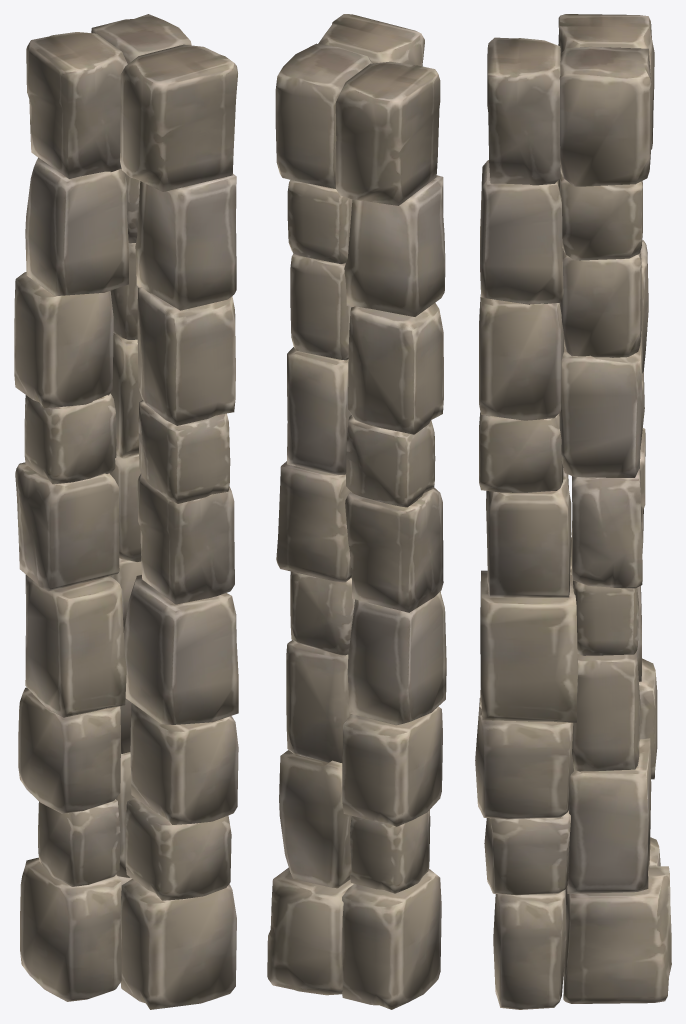
Rendered from Corner_Exterior_Brick.glb.
3 views of the same model, side by side, from view 1: azimuth 30°, elevation 25°; view 2: azimuth 150°, elevation 25°; view 3: azimuth 270°, elevation 25° (orthographic). The views are drawn at different scales.
Parts seen in each view (by area): view 1: Corner_Exterior_Brick; view 2: Corner_Exterior_Brick; view 3: Corner_Exterior_Brick.
Part boxes in pixels (x1,y1,x2,y2): Corner_Exterior_Brick: (14, 14, 238, 1009); Corner_Exterior_Brick: (267, 14, 446, 1009); Corner_Exterior_Brick: (475, 14, 671, 1009).
Bounding box in the file's own units: 0.5305 × 3.02 × 0.5758.
Materials: 1 (1 with a texture image).
